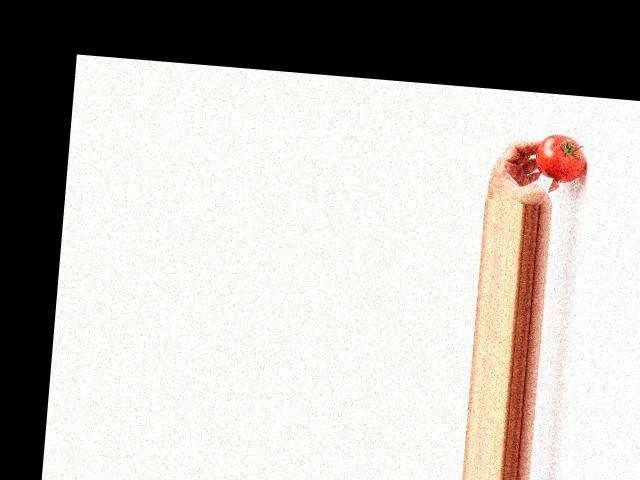tomato: (533, 132, 587, 183)
